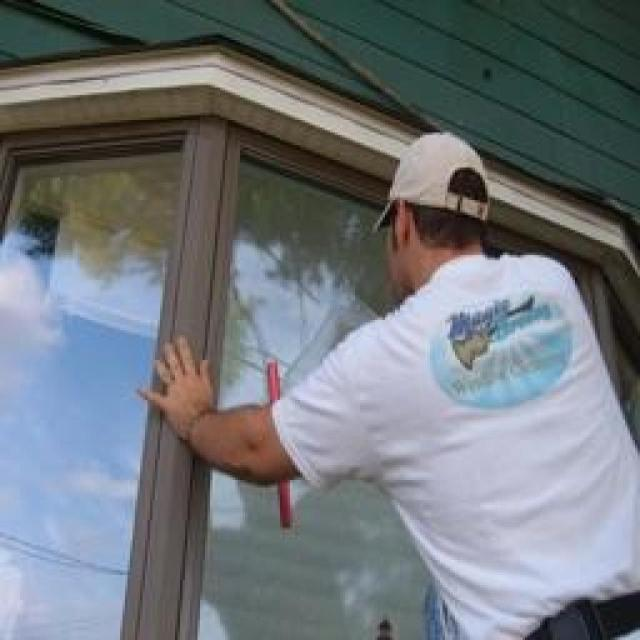Helmet: (320, 237, 638, 640), (354, 120, 492, 253)
